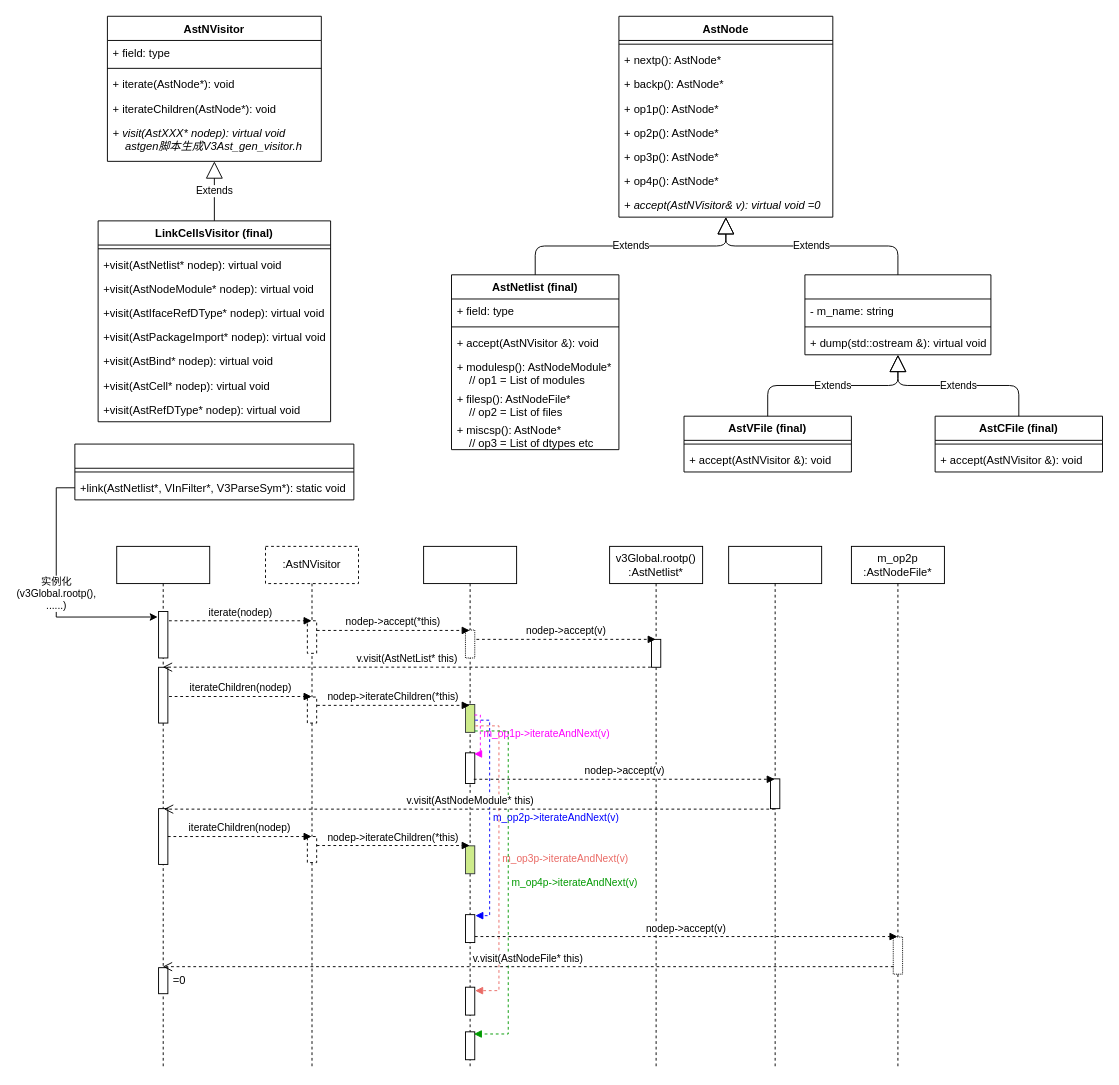
This 1119x1085 diagram has some shape labels left out. Each missing label, with the box of its shape:
AstNodeFile: (804, 274, 991, 355)
m_op1p :AstNodeModule*: (728, 545, 822, 1069)
nodep :AstNode: (423, 545, 517, 1069)
V3LinkCells (final): (74, 443, 354, 500)
visitor: LinkCellsVisitor: (116, 545, 210, 1069)
